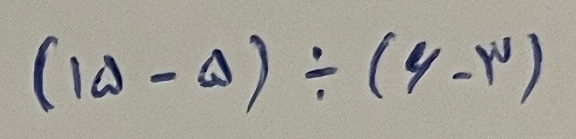character: (367, 29, 398, 103), (32, 34, 60, 115), (244, 32, 271, 115), (404, 40, 442, 98), (303, 44, 339, 103), (474, 34, 512, 88), (89, 52, 124, 102), (521, 30, 544, 105), (195, 47, 233, 90), (69, 54, 82, 101), (150, 68, 179, 85), (451, 68, 474, 83)
